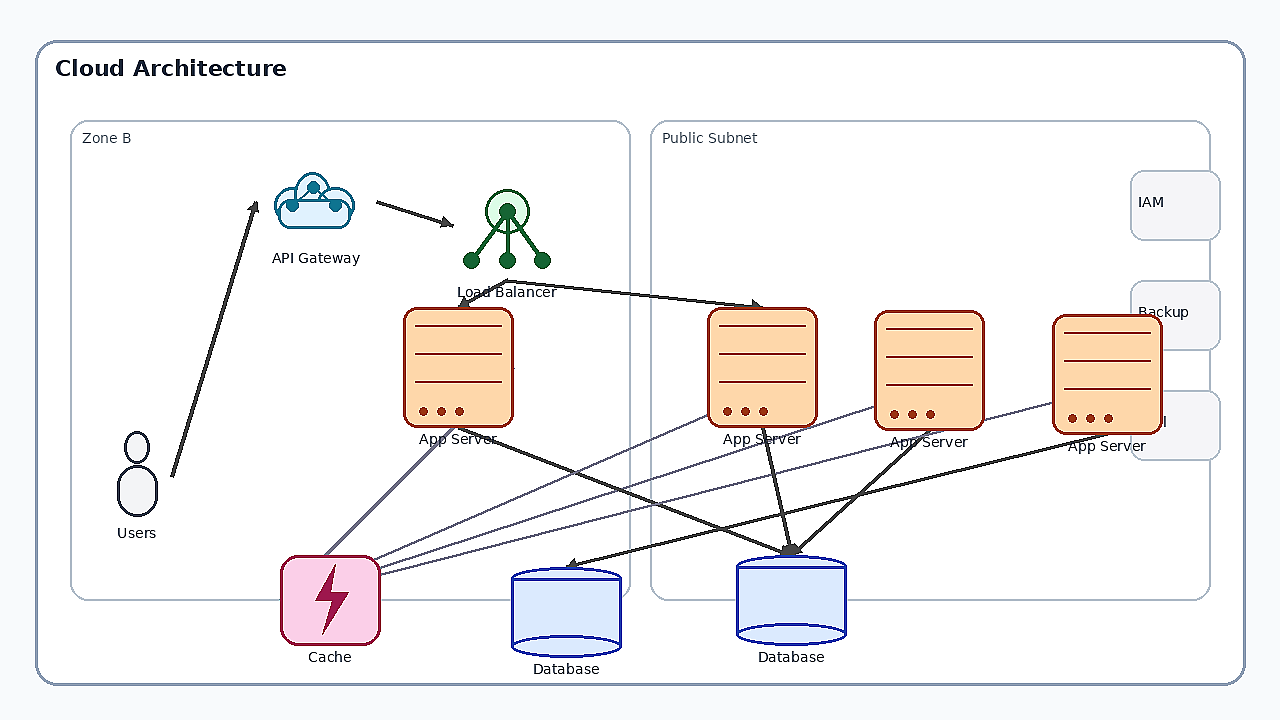API Gateway: (256, 156, 376, 246)
Application Server: (874, 310, 984, 430), (403, 307, 513, 427), (1052, 314, 1162, 434), (707, 307, 817, 427)
Cache: (280, 555, 380, 645)
Database: (511, 567, 621, 657), (736, 555, 846, 645)
Load Balancer: (452, 170, 562, 280)
User: (102, 431, 172, 521)
